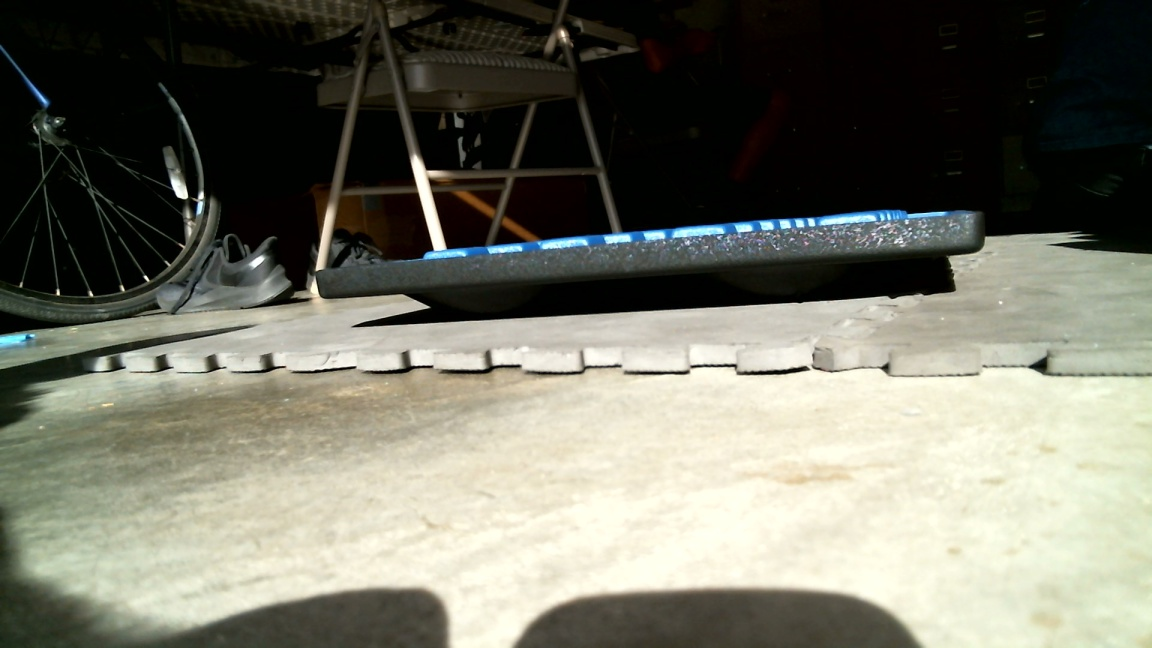blue_foundation: (317, 201, 984, 311)
